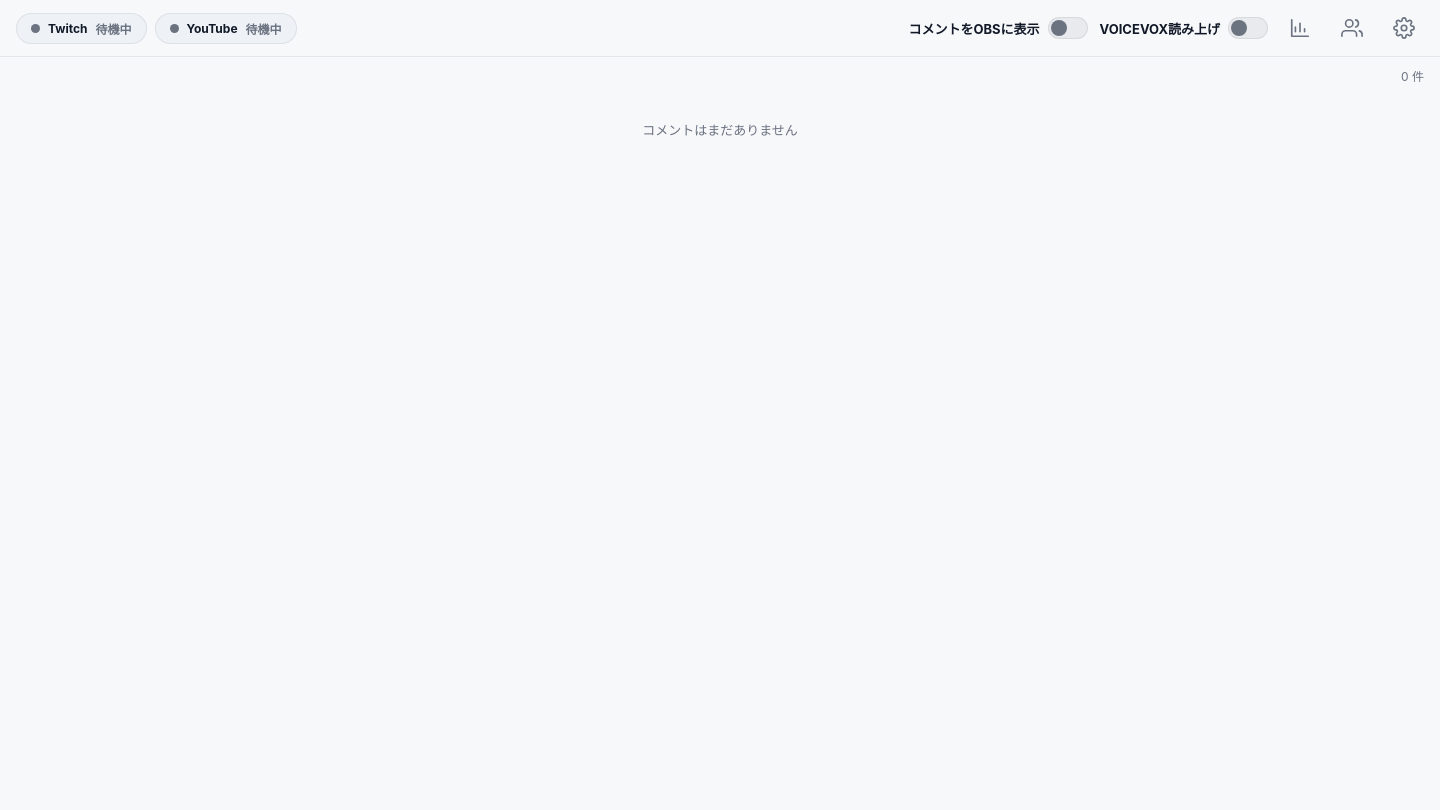
Test: 058a 通知音の出力デバイス（CommentViewerApp の配線） › 保存済みの選択を開き直しで復元する（再起動をまたいで選び直さなくてよい）
Click the button named "設定". click: (1404, 28)
box: [1384,8,1424,48]
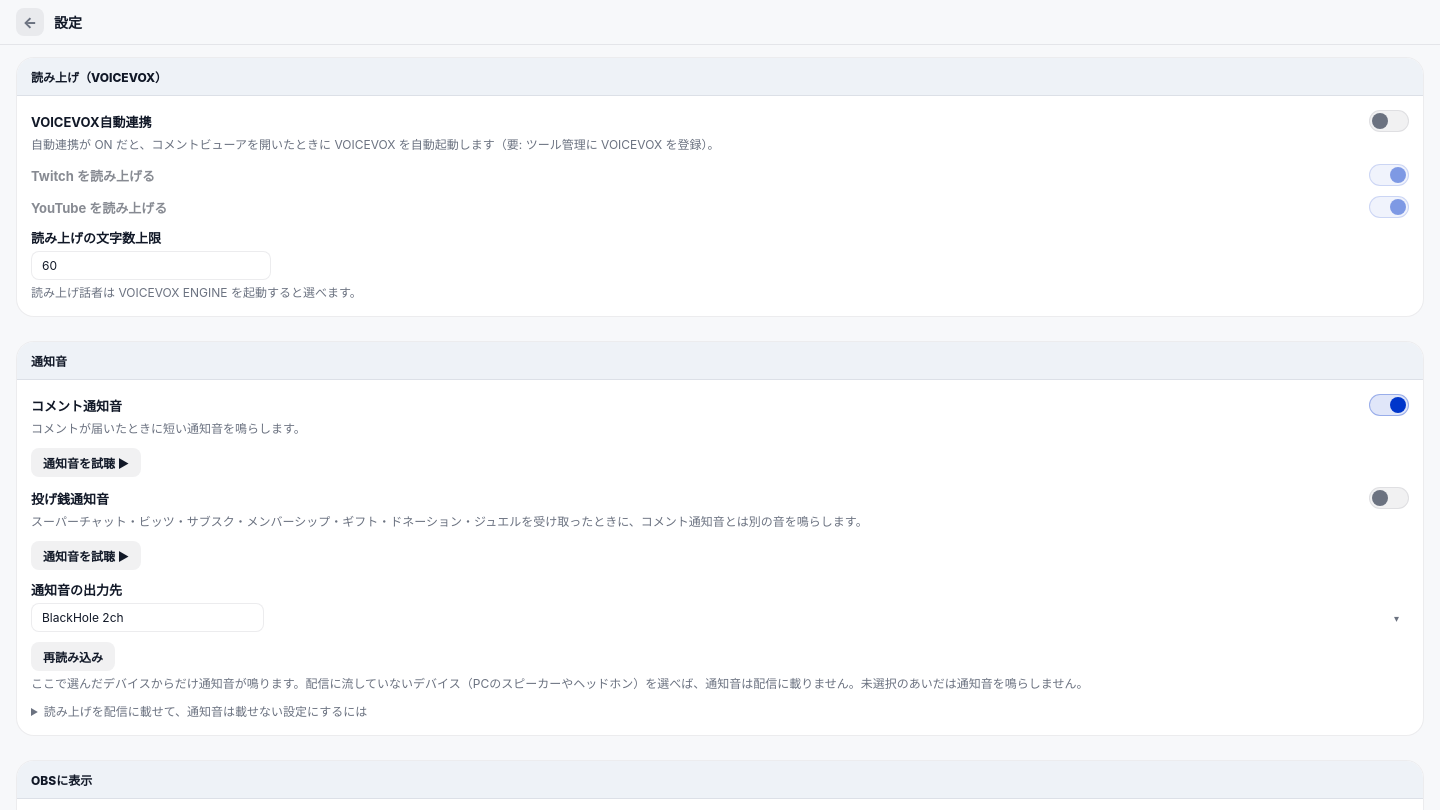
Now the dropdown labelled "通知音の出力先" shows "BlackHole 2ch", box [31,603,264,632]
